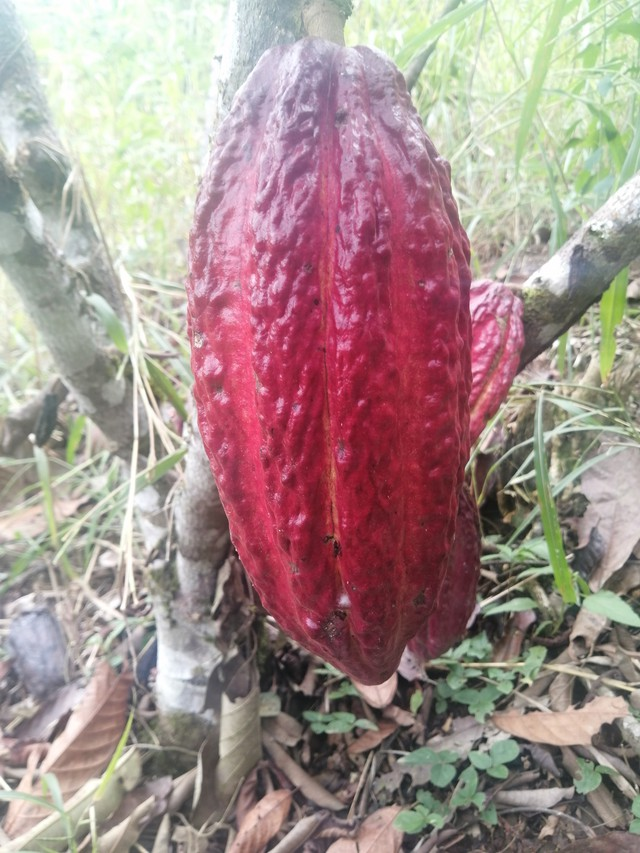Health: (164, 28, 490, 693)
